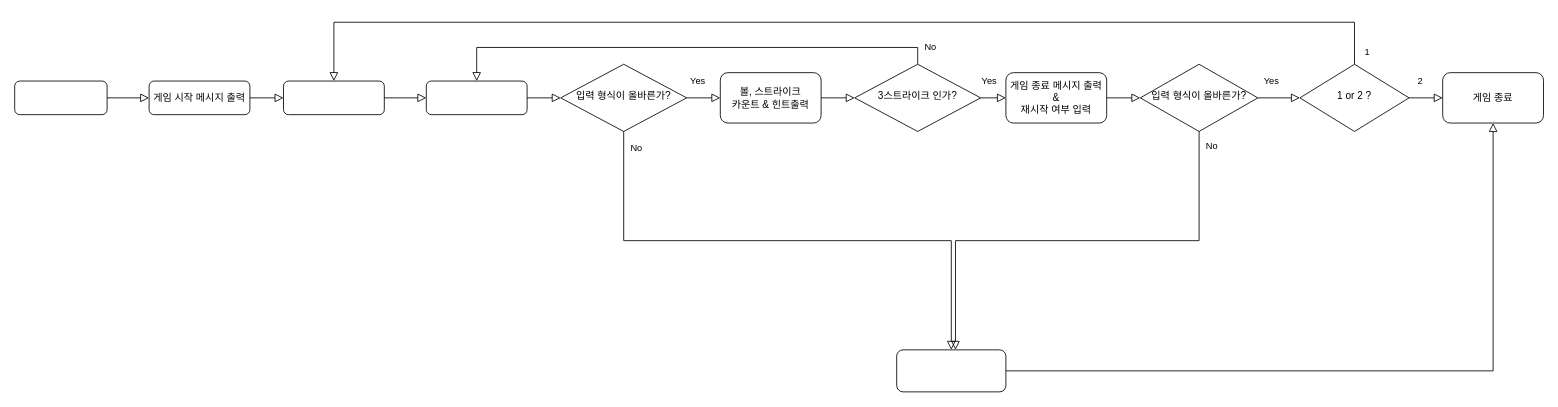
Some shapes in this 1558 by 407 pixel diagram are drawn without their labels. Here are the shapes that lost their labels. From the top down, the box of each, then its label:
(14, 80, 107, 115): 게임 시작
(283, 80, 384, 115): 랜덤한 정답 생성
(425, 80, 527, 115): 사용자 입력
(896, 349, 1006, 392): 에러 출력 및 종료
